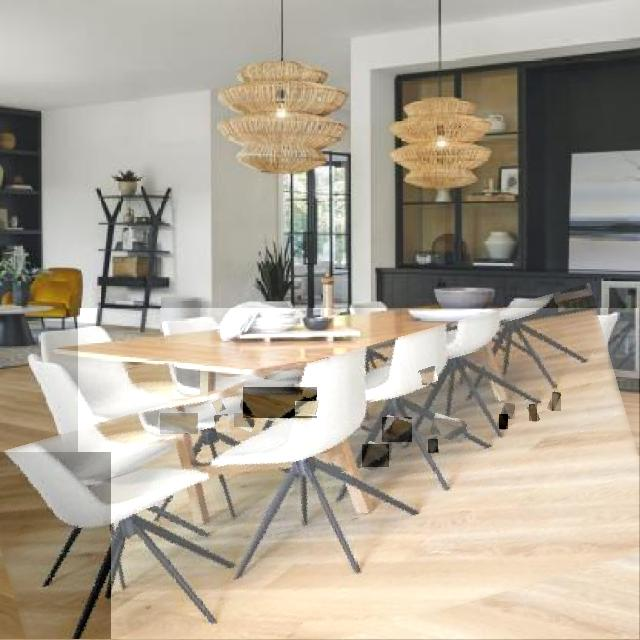floor: (79, 308, 639, 640), (0, 452, 111, 640), (244, 388, 317, 418), (127, 363, 177, 391), (161, 414, 198, 434), (383, 417, 412, 442), (363, 445, 389, 467), (436, 419, 467, 437), (295, 402, 319, 416), (235, 414, 254, 427), (216, 416, 230, 432), (420, 367, 436, 381), (333, 456, 347, 469), (505, 404, 515, 419), (553, 393, 561, 411), (428, 439, 438, 453), (530, 404, 537, 421), (214, 400, 223, 413), (500, 415, 508, 429)
